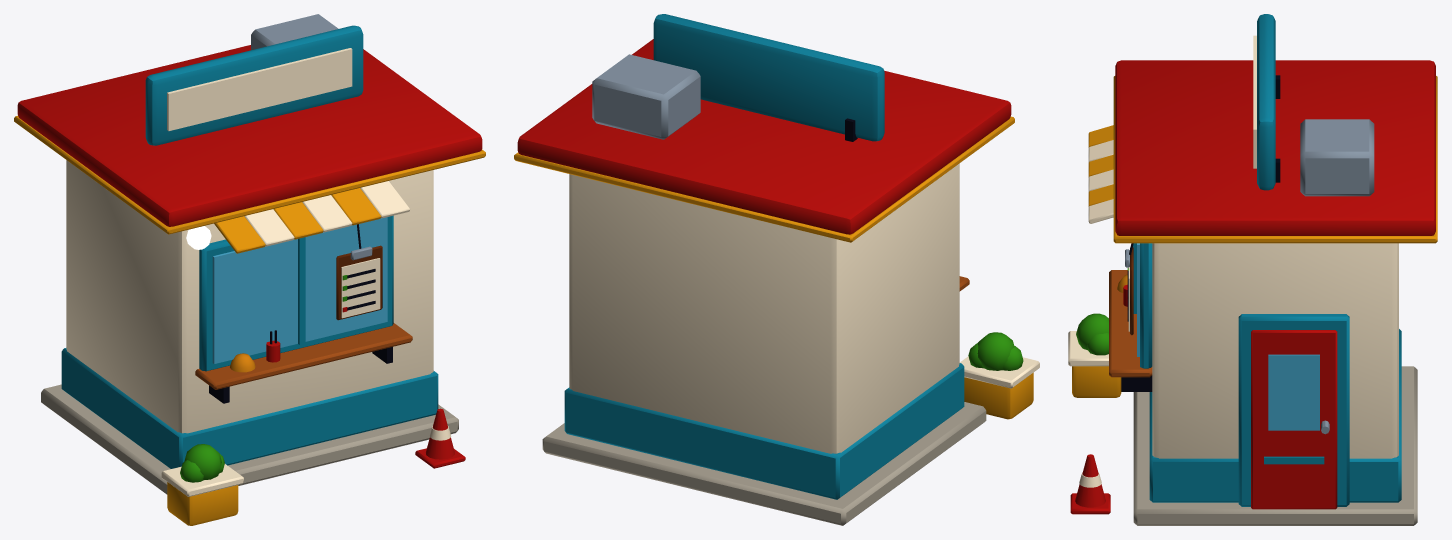
Rendered from DepotOffice.fbx.
3 renders of one model, left to right at view 1: azimuth 30°, elevation 25°; view 2: azimuth 150°, elevation 25°; view 3: azimuth 270°, elevation 25°, orthographic. The views are drawn at different scales.
Visible parts, largest first — view 1: DepotOffice; view 2: DepotOffice; view 3: DepotOffice.
Boxes of the visible parts, bbox=[...] form: DepotOffice: bbox=[14, 14, 485, 525]; DepotOffice: bbox=[514, 14, 1039, 525]; DepotOffice: bbox=[1068, 14, 1437, 525].
Bounding box in the file's own units: 6.28 × 6.95 × 5.99.
